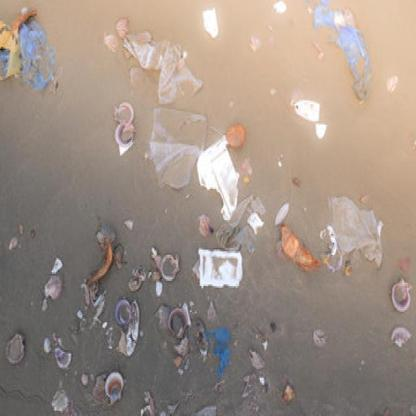foam: (198, 135, 238, 220), (198, 248, 244, 289)
plastic bag: (144, 105, 208, 190), (129, 40, 203, 102), (326, 197, 384, 266), (3, 18, 57, 87)
